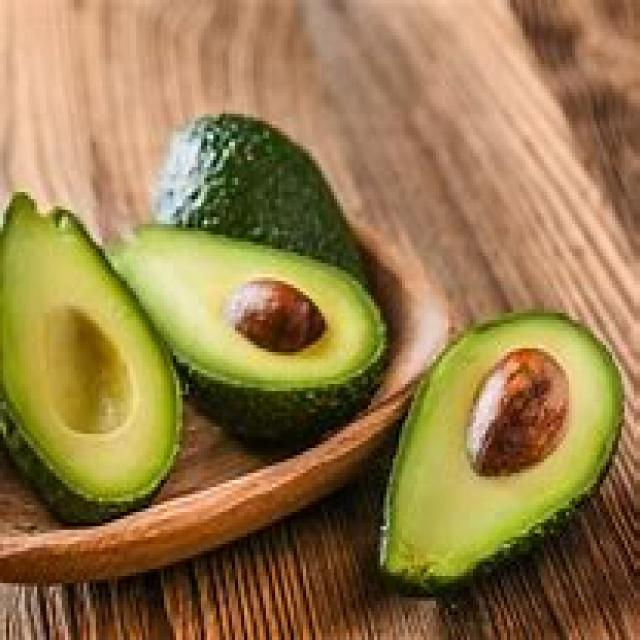avocado: (372, 296, 626, 607), (0, 185, 189, 515), (185, 227, 402, 450), (148, 112, 392, 267)
